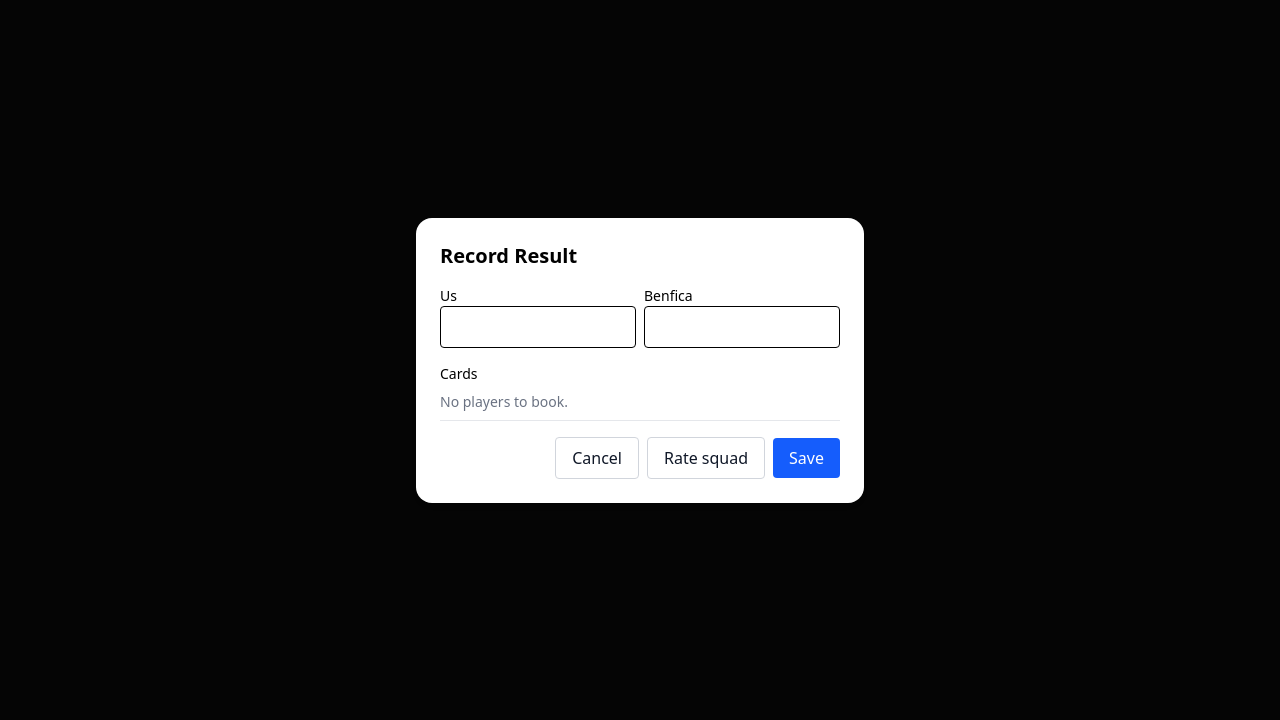
Scenario: blocks submission with a message when a score is negative (AC GAME-06.2)
The image size is (1280, 720).
Expected: the heading "Cards" is shown, left=440, top=364, right=478, bottom=382
Type "-1" into the field labelled "Us".
click(538, 326); type("-1")  # box left=440, top=306, right=636, bottom=348
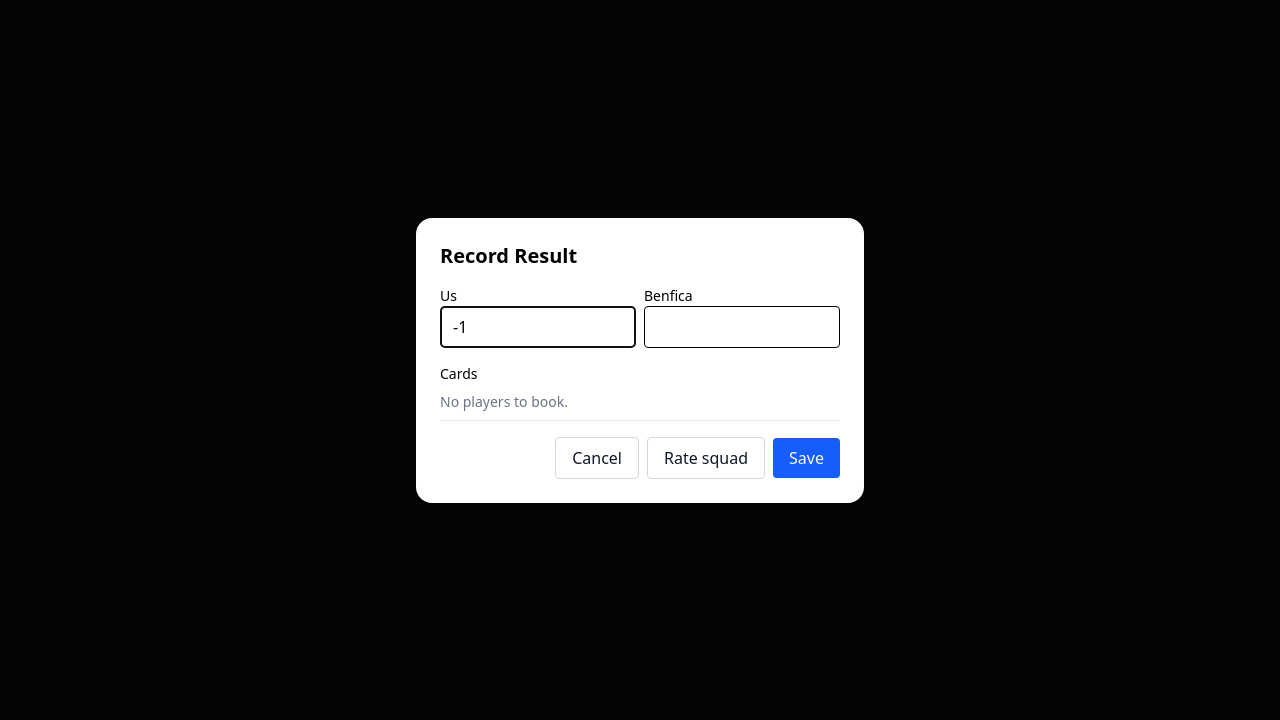
Type "2" into the field labelled "Benfica".
click(742, 326); type("2")  # box left=644, top=306, right=840, bottom=348
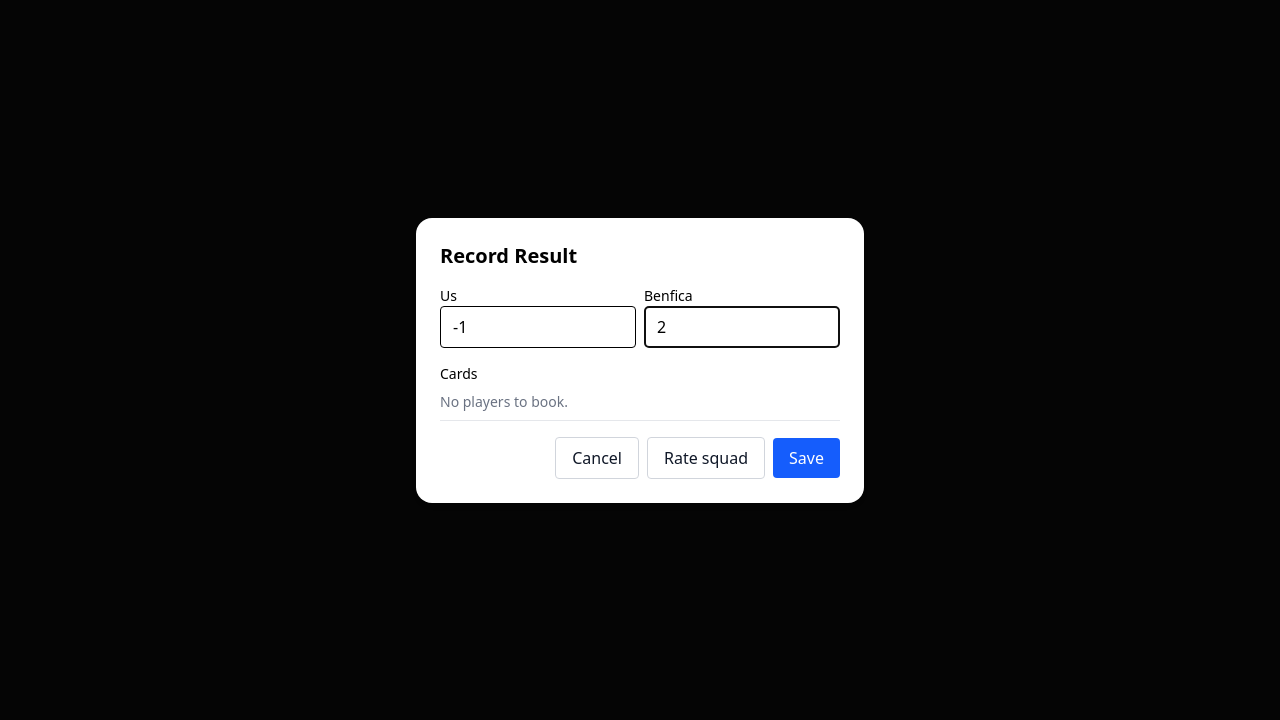
Click the button "Save".
click(807, 458)  # box left=773, top=438, right=840, bottom=478
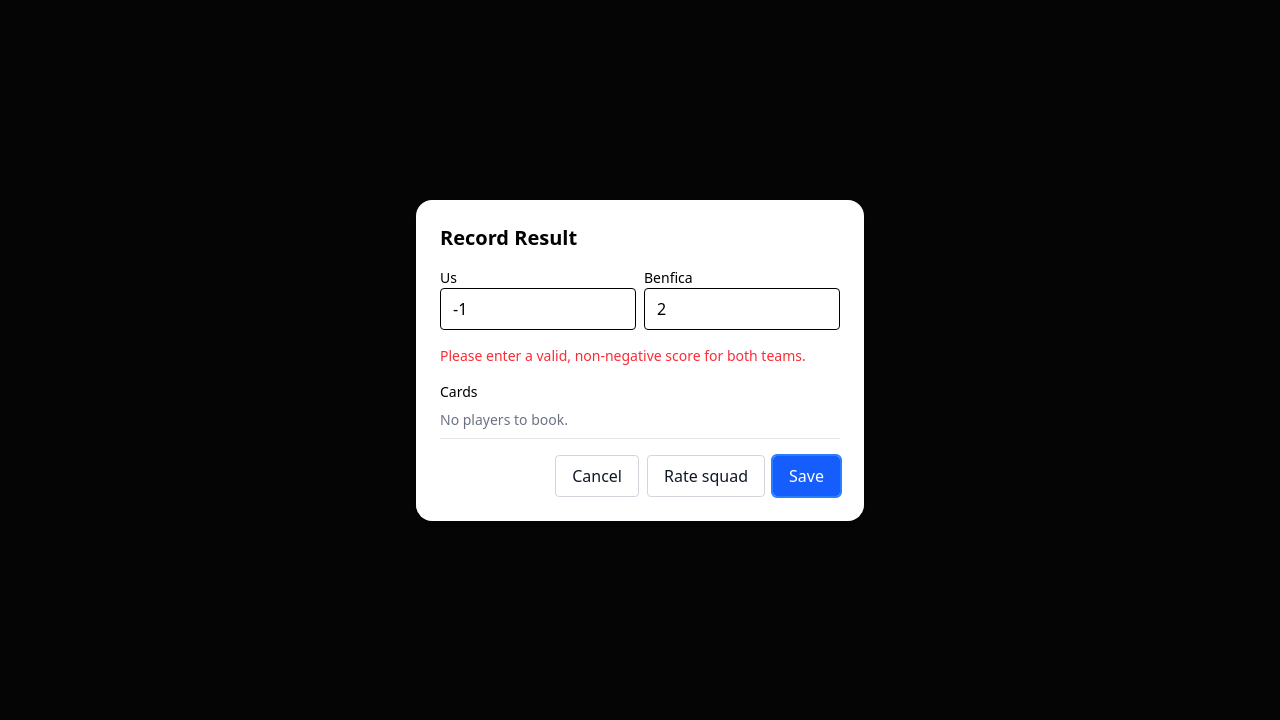
Result: the text "Please enter a valid, non-negative score for both teams." is shown at left=440, top=346, right=840, bottom=366
